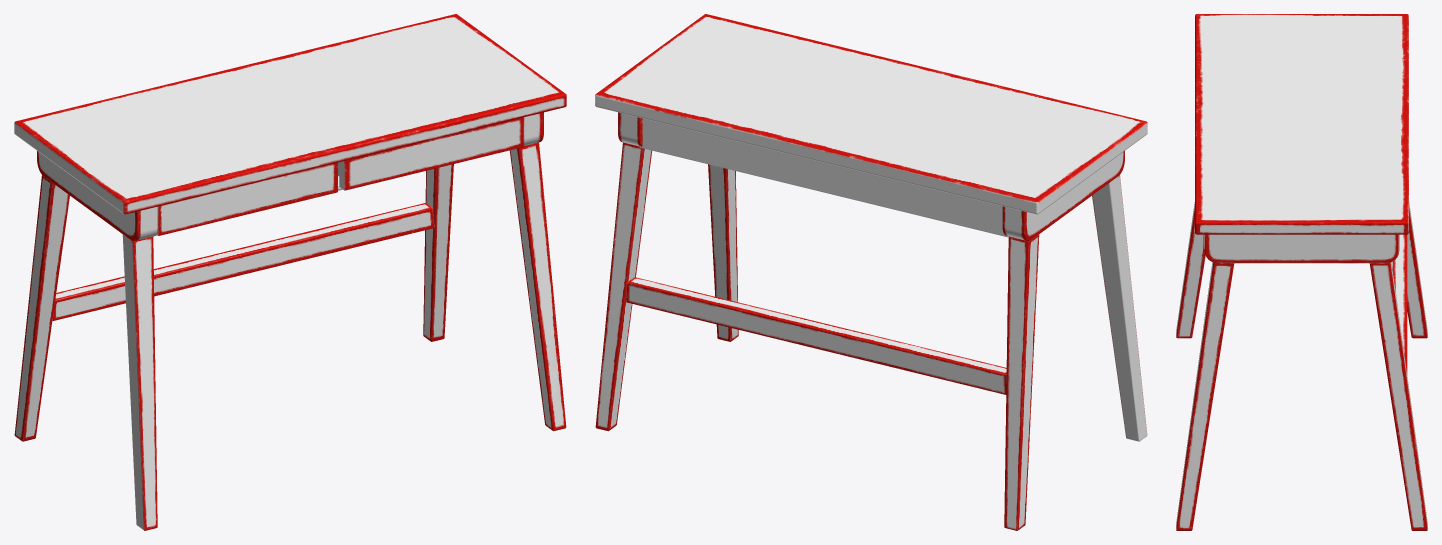
File: escrivaninha.glb
3 renders of one model, left to right at view 1: azimuth 30°, elevation 25°; view 2: azimuth 150°, elevation 25°; view 3: azimuth 270°, elevation 25°, orthographic. The views are drawn at different scales.
Parts seen in each view (by area): view 1: Tampo_Branco, Travessa_Traseira_Branco, Pe_Frontal_Esquerdo_Branco, Pe_Frontal_Direito_Branco, Pe_Traseiro_Esquerdo_Branco, Gaveta_Direita_Branco, Gaveta_Esquerda_Branco, Pe_Traseiro_Direito_Branco, Suporte_Lateral_Esquerdo_Branco; view 2: Tampo_Branco, Painel_Traseiro_Branco, Travessa_Traseira_Branco, Pe_Traseiro_Esquerdo_Branco, Pe_Traseiro_Direito_Branco, Pe_Frontal_Esquerdo_Branco, Pe_Frontal_Direito_Branco, Suporte_Lateral_Esquerdo_Branco, Suporte_Lateral_Direito_Branco; view 3: Tampo_Branco, Suporte_Lateral_Direito_Branco, Pe_Frontal_Direito_Branco, Pe_Traseiro_Direito_Branco, Pe_Frontal_Esquerdo_Branco, Pe_Traseiro_Esquerdo_Branco, Travessa_Traseira_Branco.
Part boxes in pixels (<box>): Tampo_Branco: <box>14,14,566,214</box>; Travessa_Traseira_Branco: <box>52,203,434,321</box>; Pe_Frontal_Esquerdo_Branco: <box>122,234,157,530</box>; Pe_Frontal_Direito_Branco: <box>509,142,566,431</box>; Pe_Traseiro_Esquerdo_Branco: <box>14,175,69,441</box>; Gaveta_Direita_Branco: <box>338,117,524,190</box>; Gaveta_Esquerda_Branco: <box>156,162,337,235</box>; Pe_Traseiro_Direito_Branco: <box>423,164,453,341</box>; Suporte_Lateral_Esquerdo_Branco: <box>37,151,157,241</box>; Tampo_Branco: <box>595,14,1147,214</box>; Painel_Traseiro_Branco: <box>639,118,1008,237</box>; Travessa_Traseira_Branco: <box>626,277,1006,394</box>; Pe_Traseiro_Esquerdo_Branco: <box>1004,234,1039,530</box>; Pe_Traseiro_Direito_Branco: <box>595,142,651,431</box>; Pe_Frontal_Esquerdo_Branco: <box>1092,175,1147,441</box>; Pe_Frontal_Direito_Branco: <box>708,164,738,341</box>; Suporte_Lateral_Esquerdo_Branco: <box>1002,151,1124,241</box>; Suporte_Lateral_Direito_Branco: <box>618,112,642,146</box>; Tampo_Branco: <box>1195,14,1408,234</box>; Suporte_Lateral_Direito_Branco: <box>1204,234,1399,263</box>; Pe_Frontal_Direito_Branco: <box>1176,262,1234,530</box>; Pe_Traseiro_Direito_Branco: <box>1369,262,1427,530</box>; Pe_Frontal_Esquerdo_Branco: <box>1176,202,1205,338</box>; Pe_Traseiro_Esquerdo_Branco: <box>1407,202,1427,338</box>; Travessa_Traseira_Branco: <box>1392,234,1407,374</box>.
Bounding box in the file's own units: 1.1 × 0.77 × 0.5594.
1 material, 1 textured.
